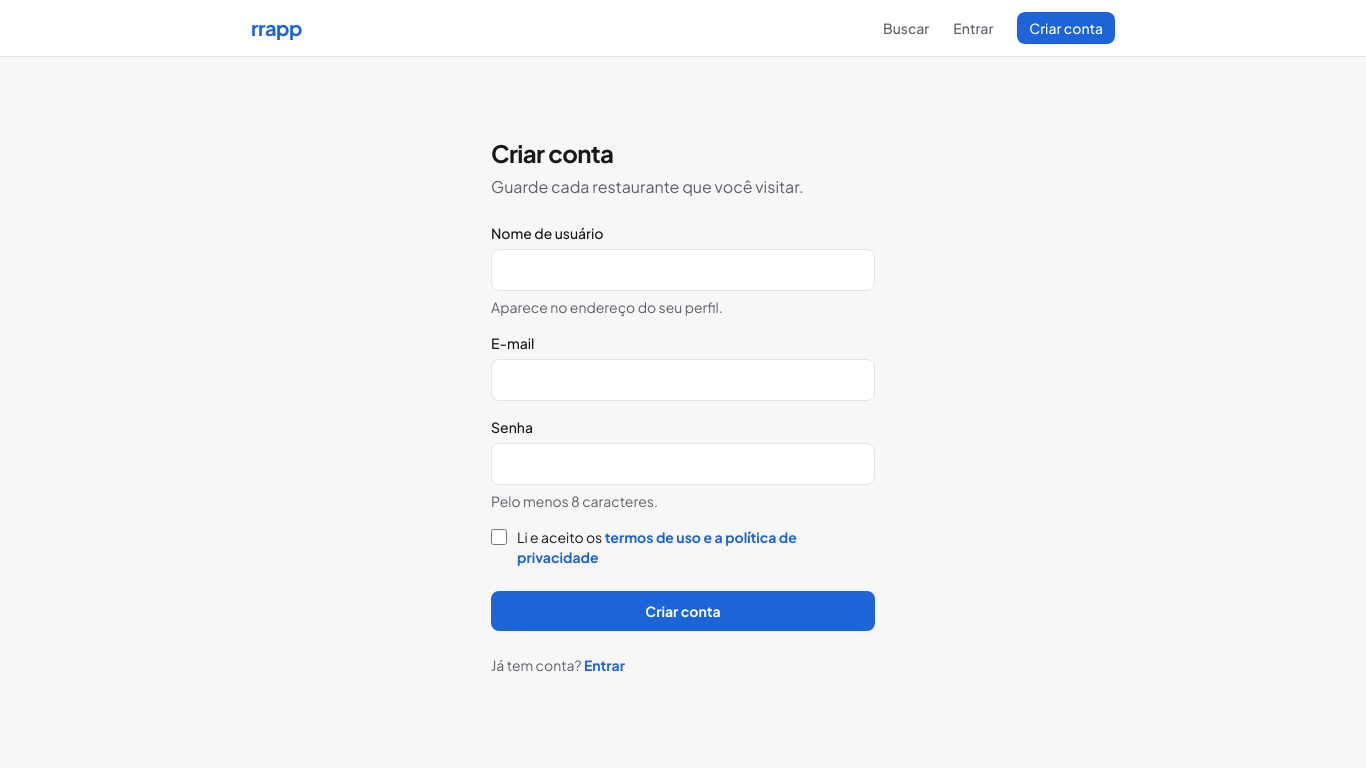
sem aceitar os termos não envia
Type "ana" into the field labelled "Nome de usuário" at x=683, y=270, box [491,249,875,291]
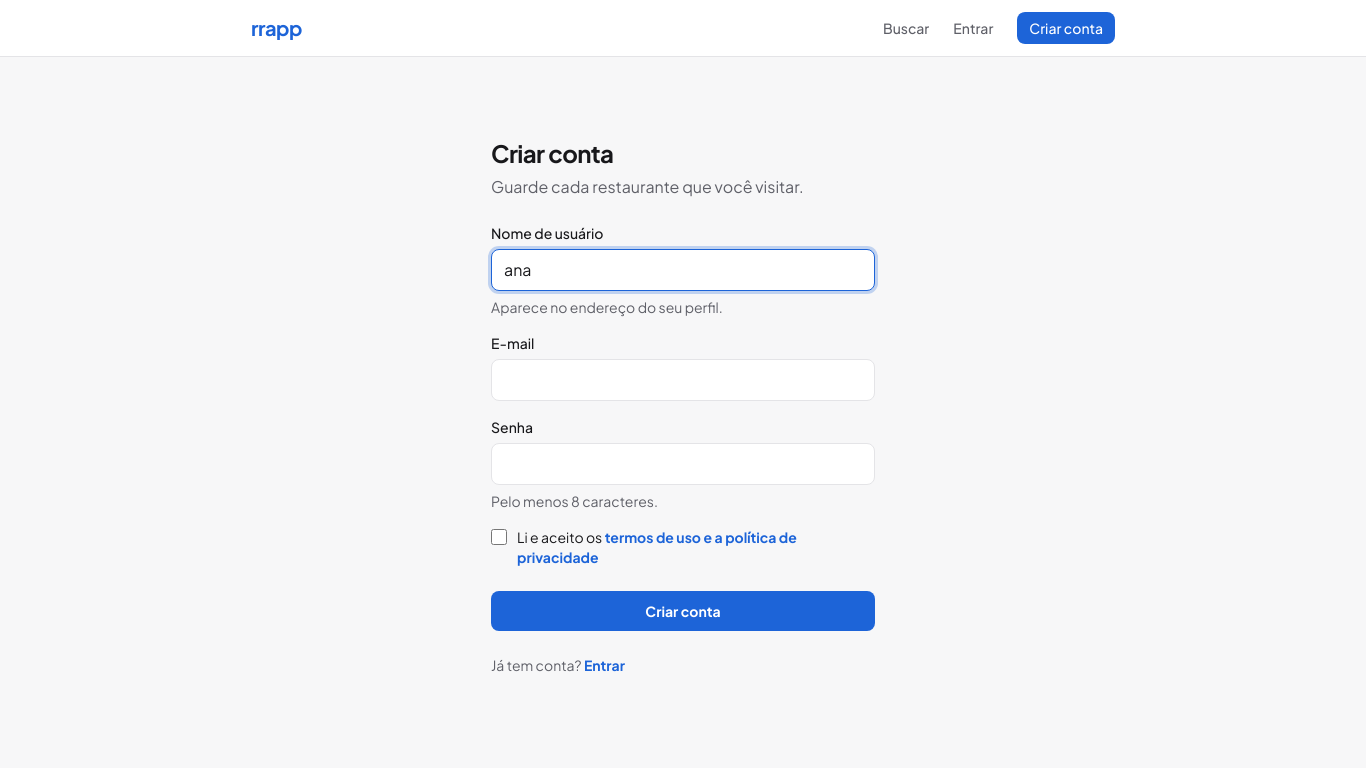
Type "ana@example.com" into the field labelled "E-mail" at x=683, y=380, box [491,359,875,401]
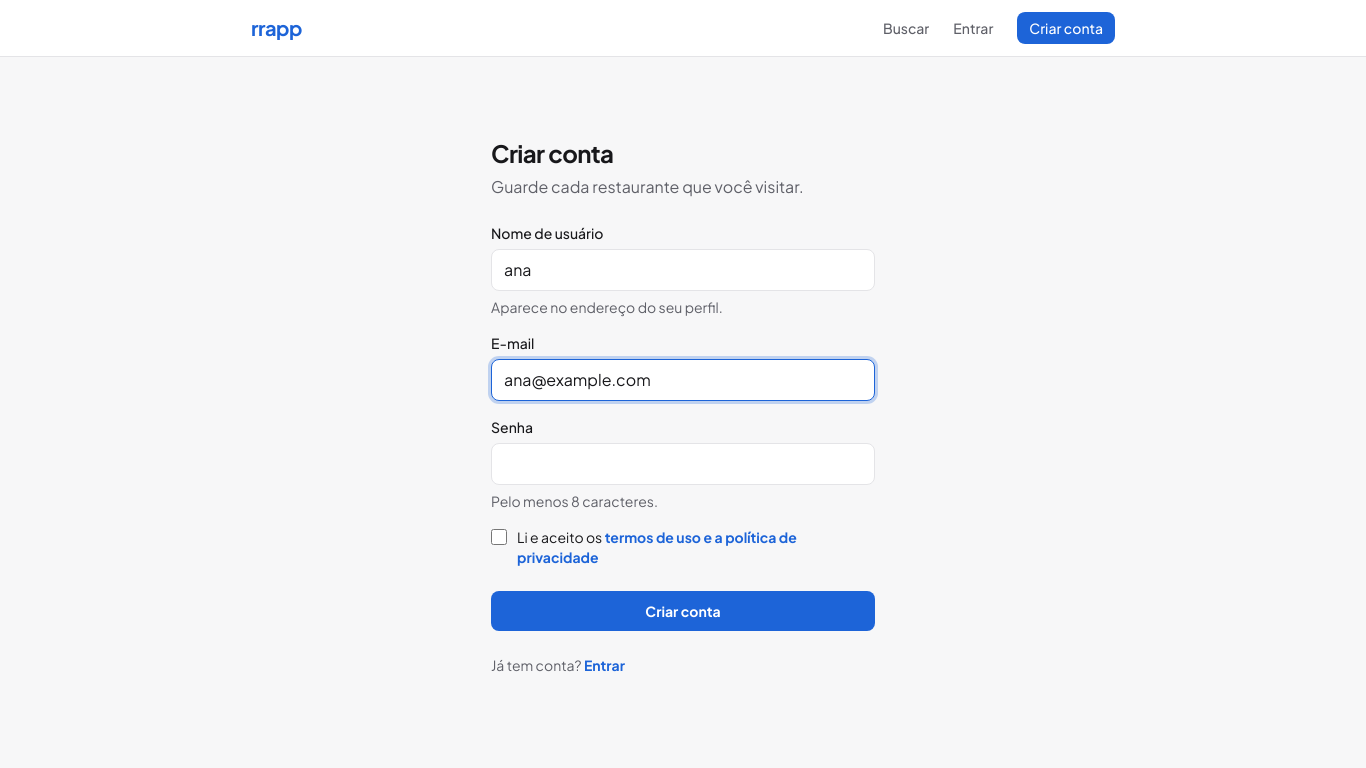
Type "uma-senha-bem-forte" into the password field labelled "Senha" at x=683, y=464, box [491,443,875,485]
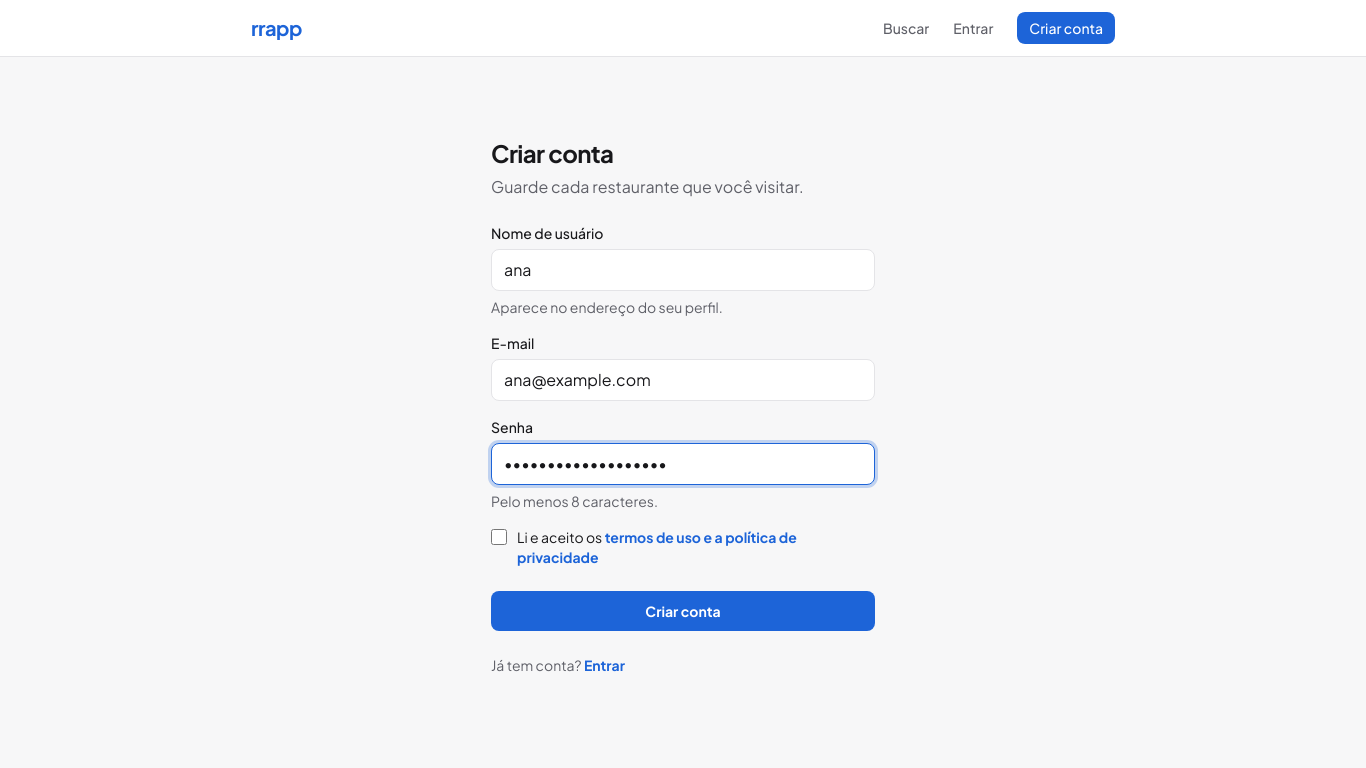
Click the button "Criar conta" at x=683, y=611, box [491,591,875,631]
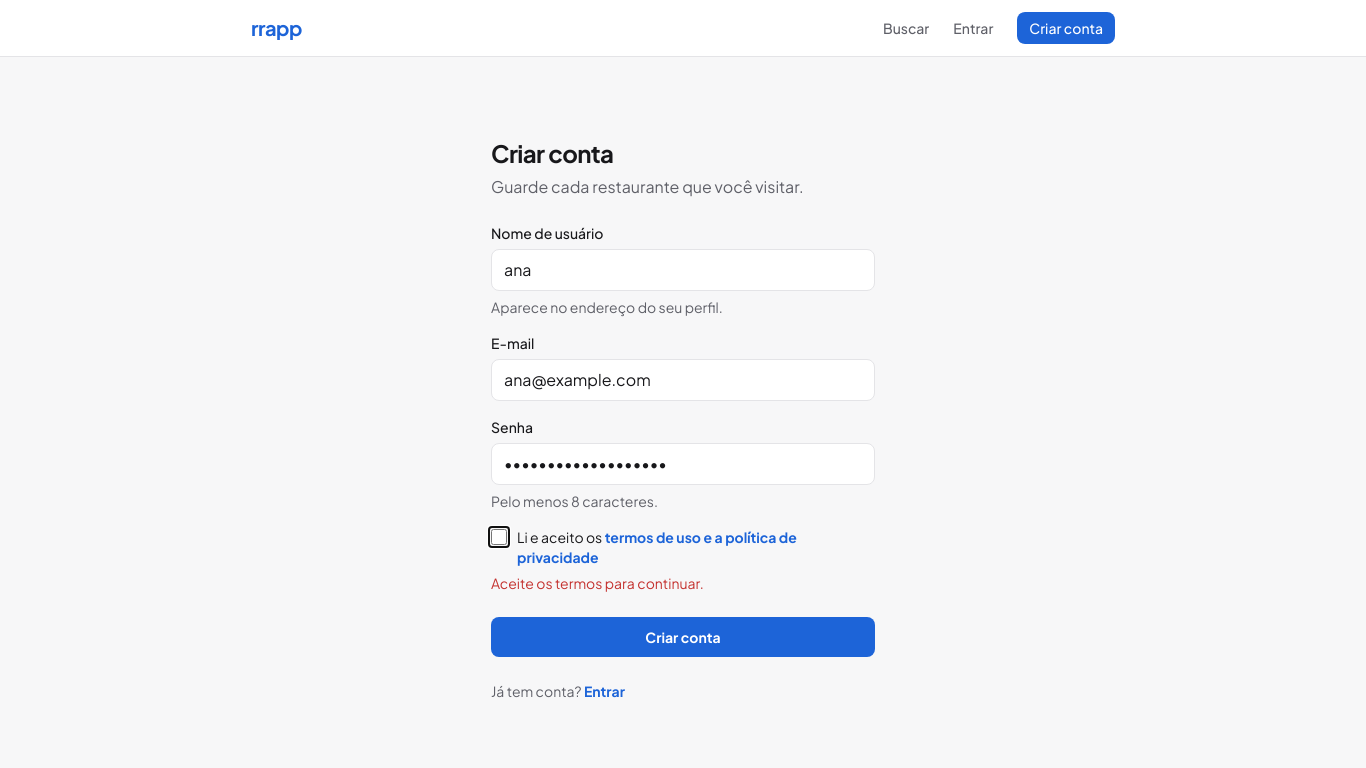
Now the text "Aceite os termos para continuar." is shown, box [491,574,704,592]
